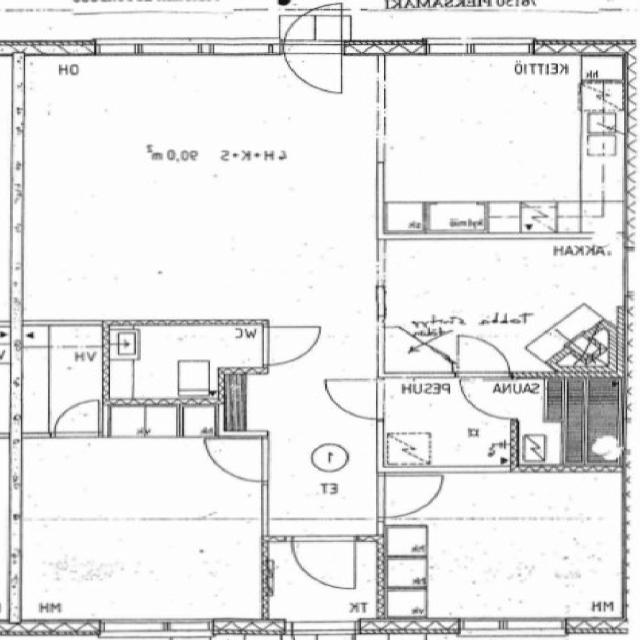door: (284, 39, 344, 99), (284, 0, 344, 55), (294, 535, 355, 586), (378, 476, 442, 517), (206, 440, 270, 481), (264, 326, 322, 365), (327, 381, 386, 418), (460, 381, 519, 418), (458, 337, 508, 378), (56, 402, 97, 437), (293, 619, 357, 640)
